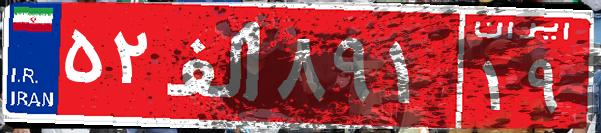1: (385, 28, 445, 110), (475, 38, 525, 113)
2: (110, 28, 158, 105)
5: (57, 26, 110, 107)
8: (273, 28, 330, 110)
9: (330, 28, 385, 110), (525, 38, 570, 115)
الف: (158, 15, 273, 115)
